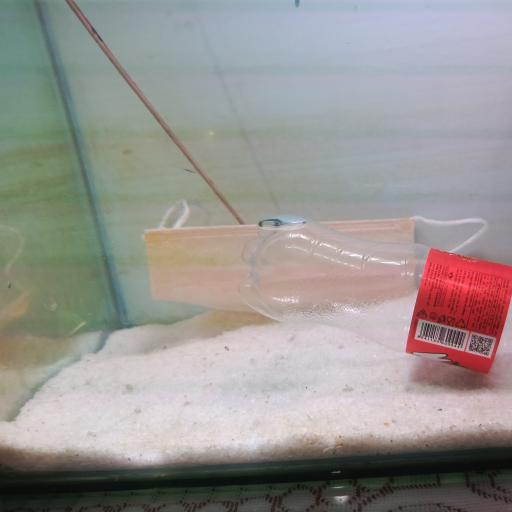mask: (151, 217, 487, 308)
plastic_bottle: (244, 214, 511, 382)
